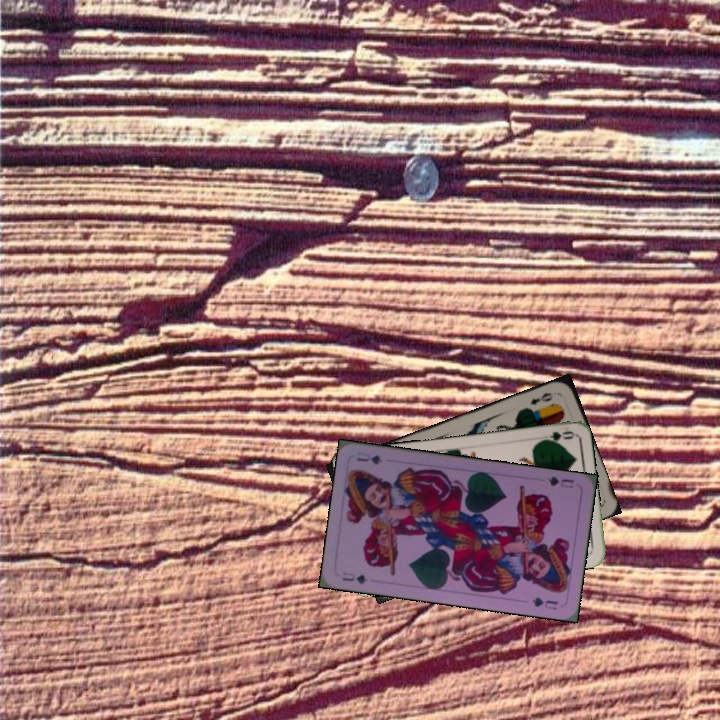EO: (526, 388, 556, 407)
GO: (535, 427, 575, 446)
GU: (544, 472, 576, 491), (338, 568, 370, 587)
